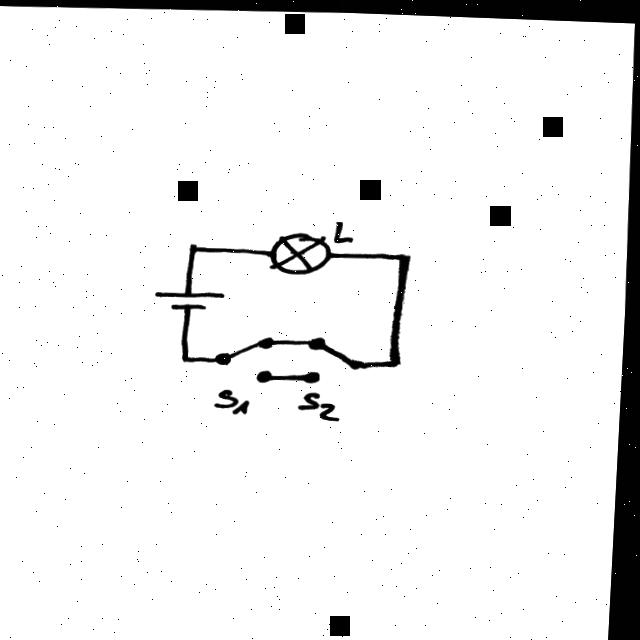junction: (186, 239, 205, 253), (390, 354, 408, 366), (181, 351, 197, 364), (400, 249, 416, 260)
source: (154, 288, 233, 310)
switch: (302, 333, 369, 380), (217, 333, 279, 382)
text: (301, 389, 345, 420), (216, 386, 255, 414), (332, 218, 358, 241)
